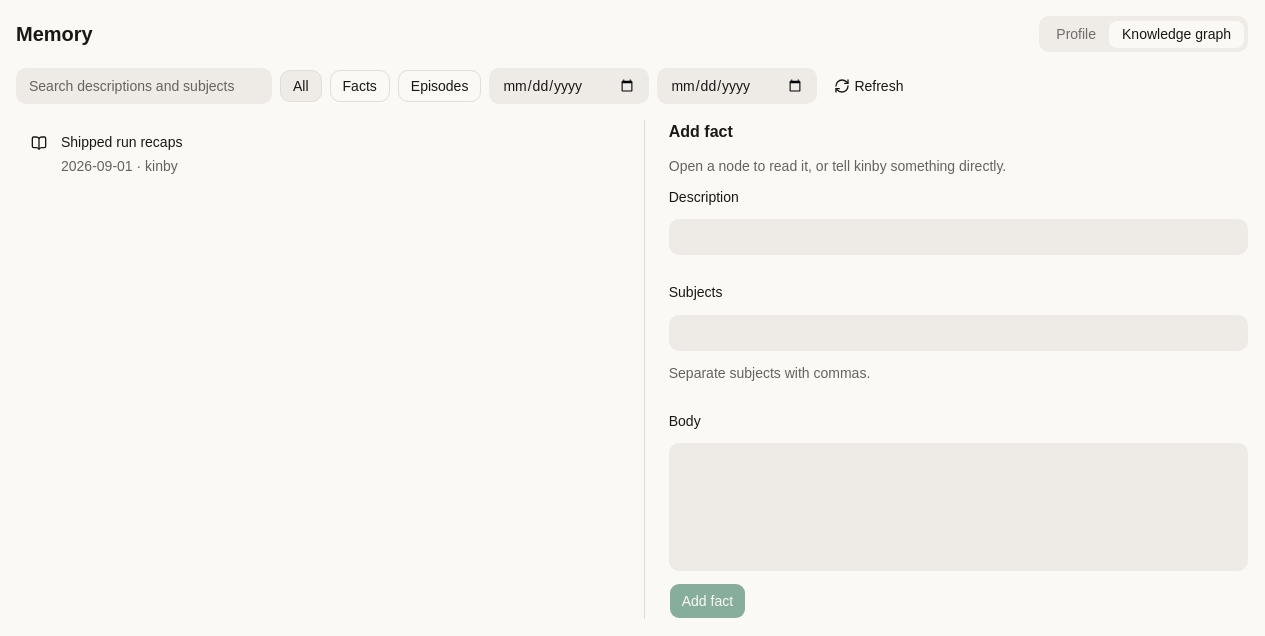
Test: the memory page › says a factory run's episode recaps the run, with no thread
What coordinates should you click on to do the following:
click the button "Shipped run recaps 2026-09-01 · kinby"
I would click on:
 (122, 142)
Its box is [16,120,620,189].
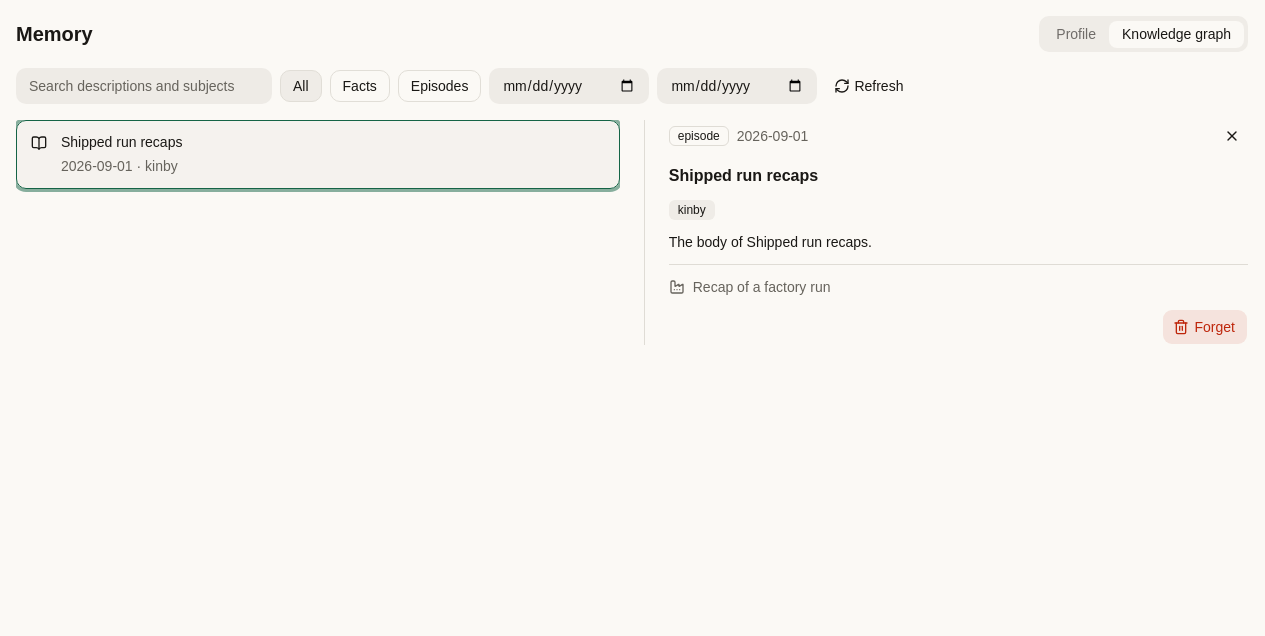
Now the text "Recap of a factory run" is shown, box [669,279,831,295]
